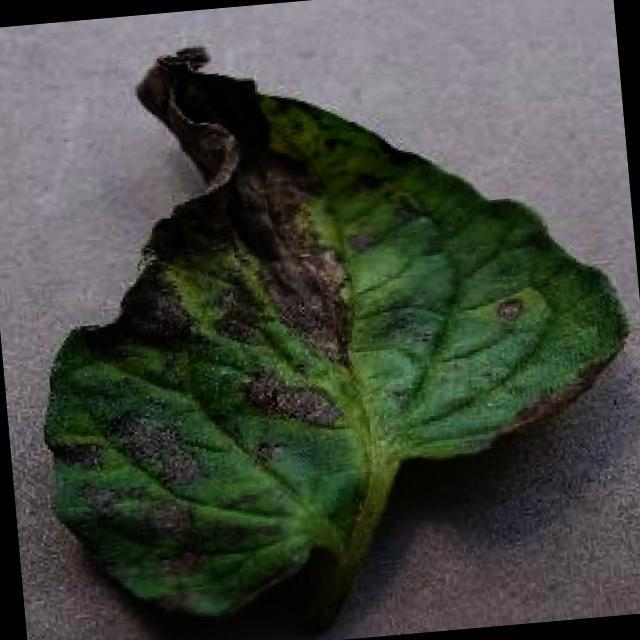Tomato Early blight leaf: (4, 11, 640, 640)
